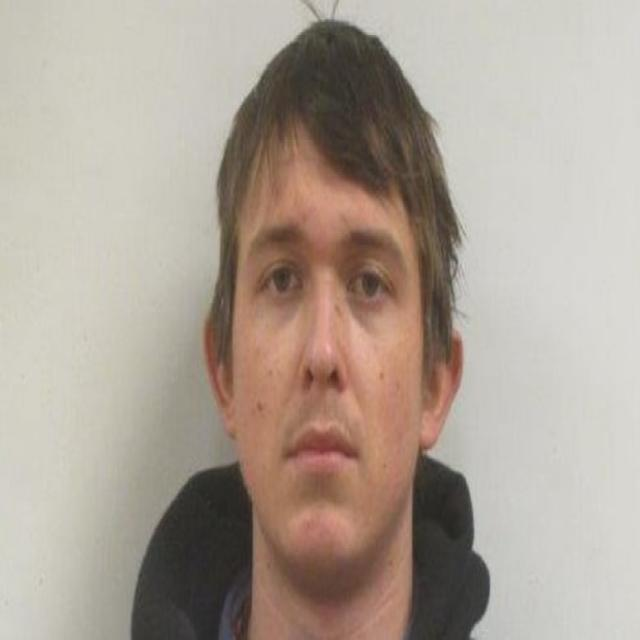mobile_phonerotation: (129, 15, 493, 637)
